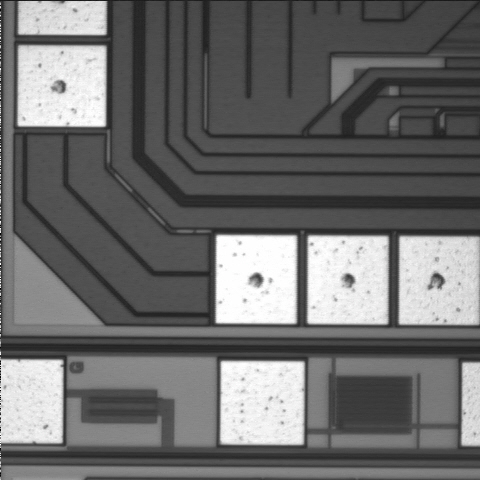pad: (216, 235, 297, 324), (18, 46, 106, 127), (307, 236, 388, 324), (220, 361, 304, 445)
